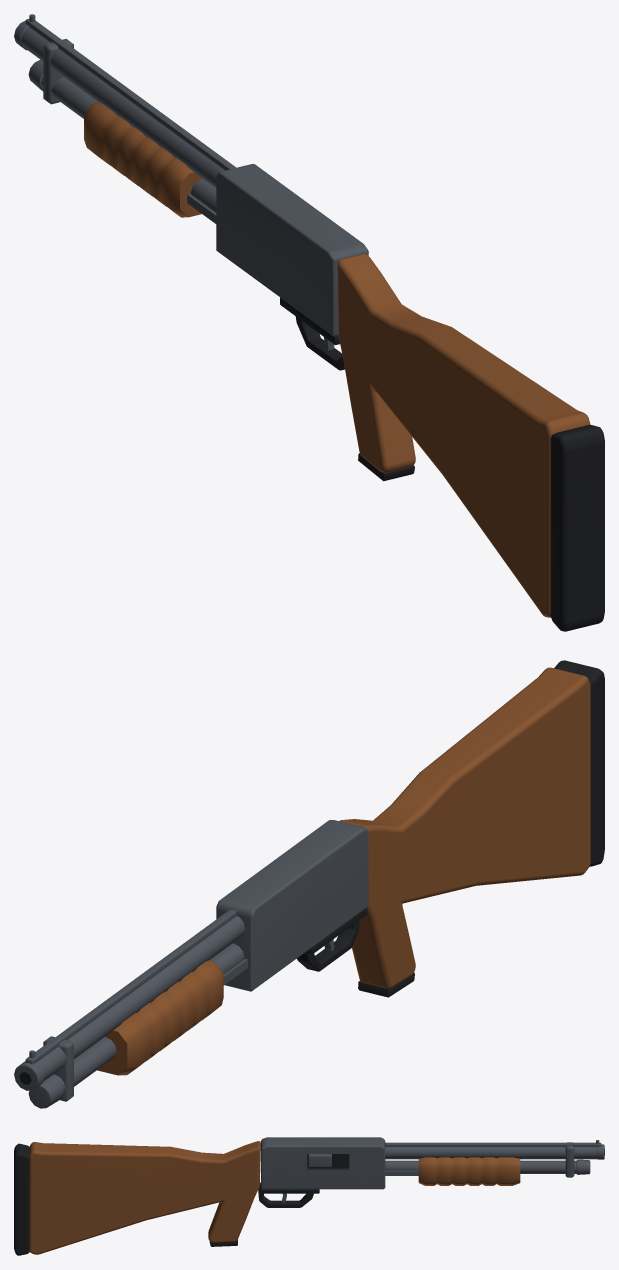
Rendered from weapon_sg.glb.
The picture shows the model from 3 angles, top to bottom: view 1: azimuth 30°, elevation 25°; view 2: azimuth 150°, elevation 25°; view 3: azimuth 270°, elevation 25°; orthographic projection. The views are drawn at different scales.
Visible parts, largest first — view 1: Weapon_SG; view 2: Weapon_SG; view 3: Weapon_SG.
Boxes of the visible parts, x1,y1,x2,y2 form: Weapon_SG: [14, 14, 604, 631]; Weapon_SG: [14, 660, 604, 1108]; Weapon_SG: [14, 1137, 604, 1255].
Bounding box in the file's own units: 0.051 × 0.1974 × 0.9548.
